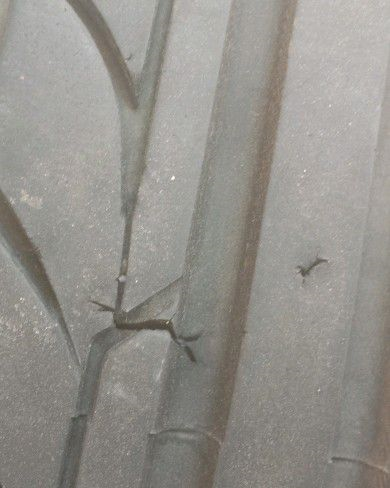tr: (87, 295, 202, 369), (292, 255, 331, 287)
